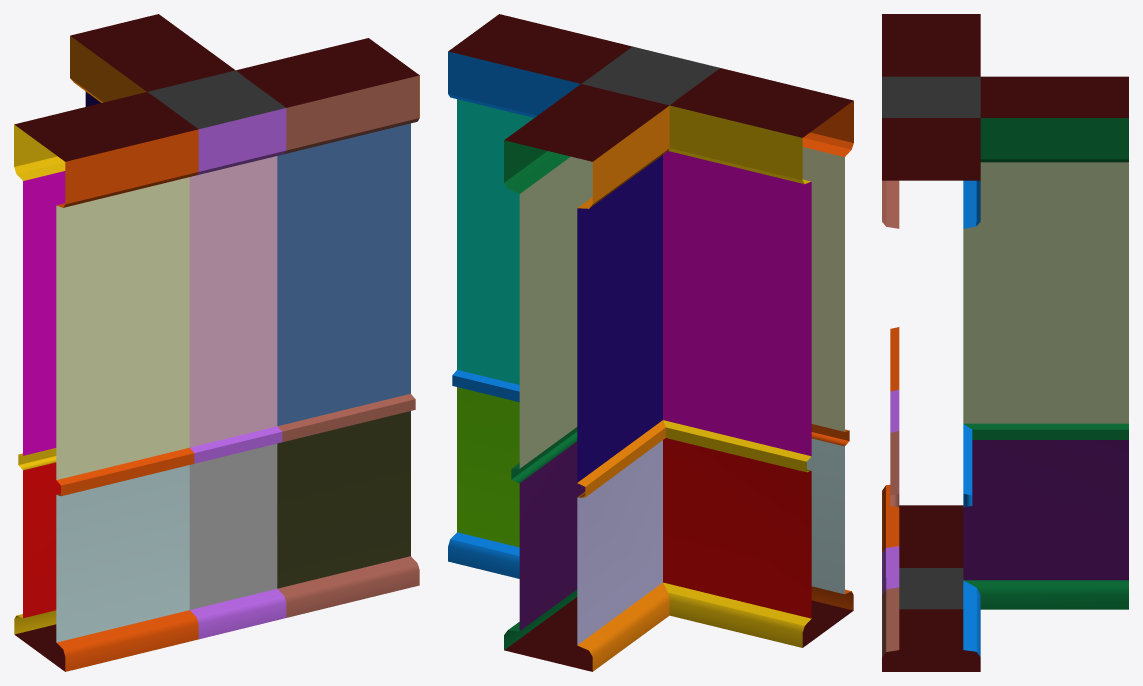
File: Wall_T 1.fbx
The picture shows the model from 3 angles, left to right: view 1: azimuth 30°, elevation 25°; view 2: azimuth 150°, elevation 25°; view 3: azimuth 270°, elevation 25°; orthographic projection. The views are drawn at different scales.
Visible parts, largest first — view 1: Wall_T; view 2: Wall_T; view 3: Wall_T.
Boxes of the visible parts, <box> form: Wall_T: <box>14,14,419,671</box>; Wall_T: <box>448,14,853,671</box>; Wall_T: <box>882,14,1128,671</box>.
Size of the model in its own units: 200 by 275 by 125.
